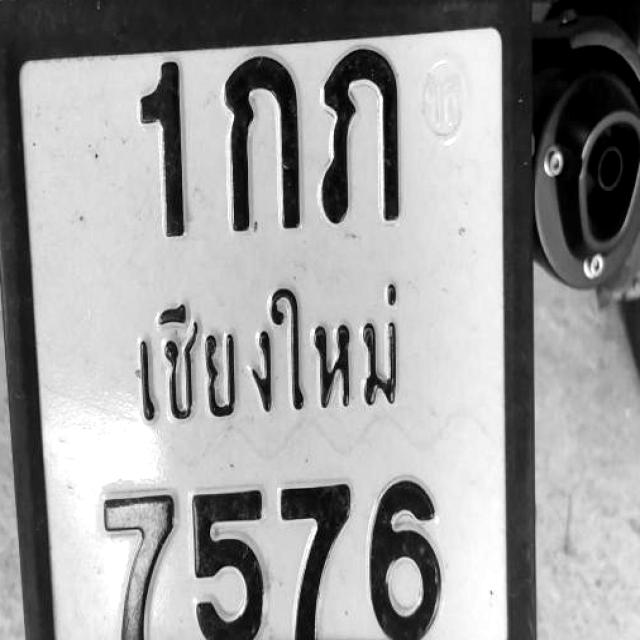letters: (310, 40, 418, 234), (209, 46, 307, 233), (173, 481, 270, 640), (129, 51, 199, 240), (89, 481, 165, 640), (278, 474, 350, 640), (372, 470, 439, 640)
license-plate: (1, 0, 523, 640)
province: (85, 286, 455, 422)
